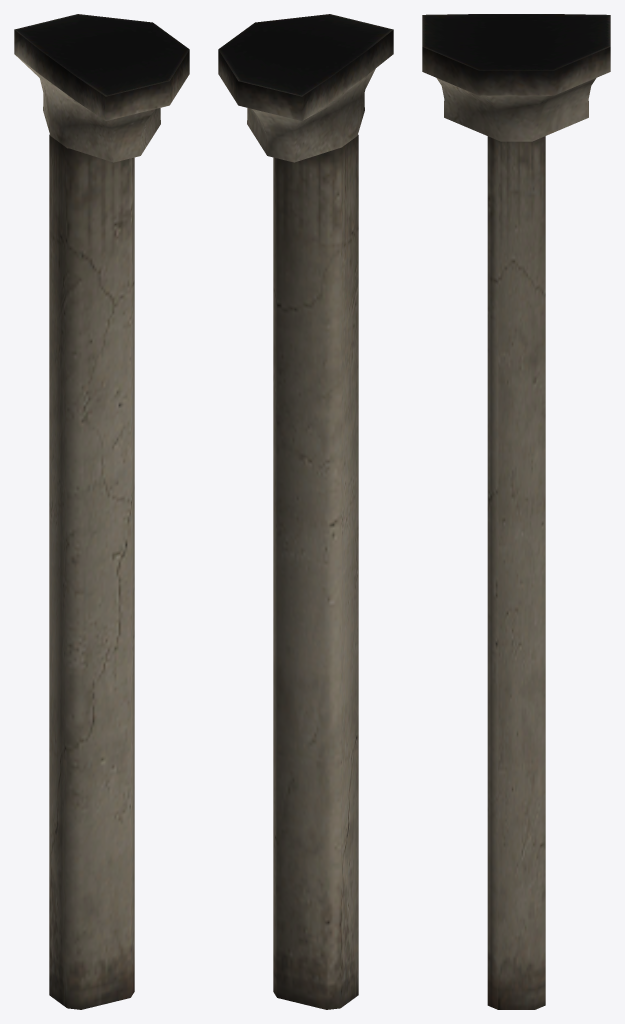
The model's file is welder_01a_wall.DAE.
The picture shows the model from 3 angles, left to right: view 1: azimuth 30°, elevation 25°; view 2: azimuth 150°, elevation 25°; view 3: azimuth 270°, elevation 25°; orthographic projection. The views are drawn at different scales.
Visible parts, largest first — view 1: mansionbase_welder005; view 2: mansionbase_welder005; view 3: mansionbase_welder005.
Boxes of the visible parts, x1,y1,x2,y2 form: mansionbase_welder005: (14,14,189,1009); mansionbase_welder005: (218,14,393,1009); mansionbase_welder005: (422,14,610,1009).
Size of the model in its own units: 0.5045 by 4 by 0.7087.
